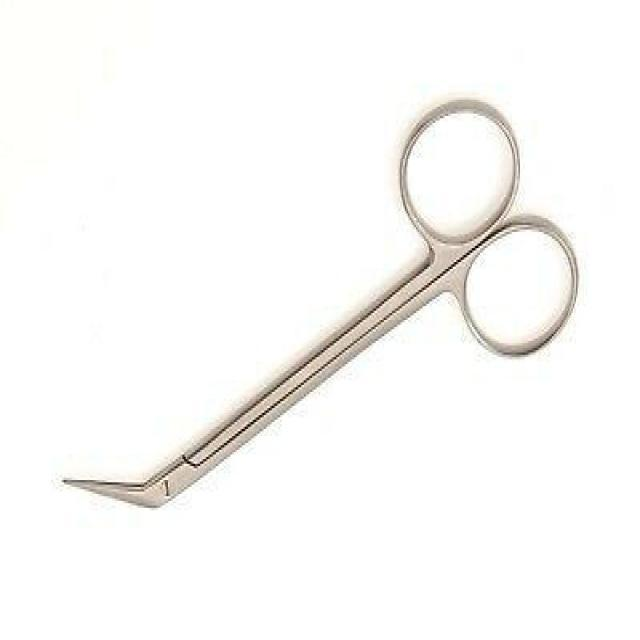Potts: (55, 97, 582, 515)
